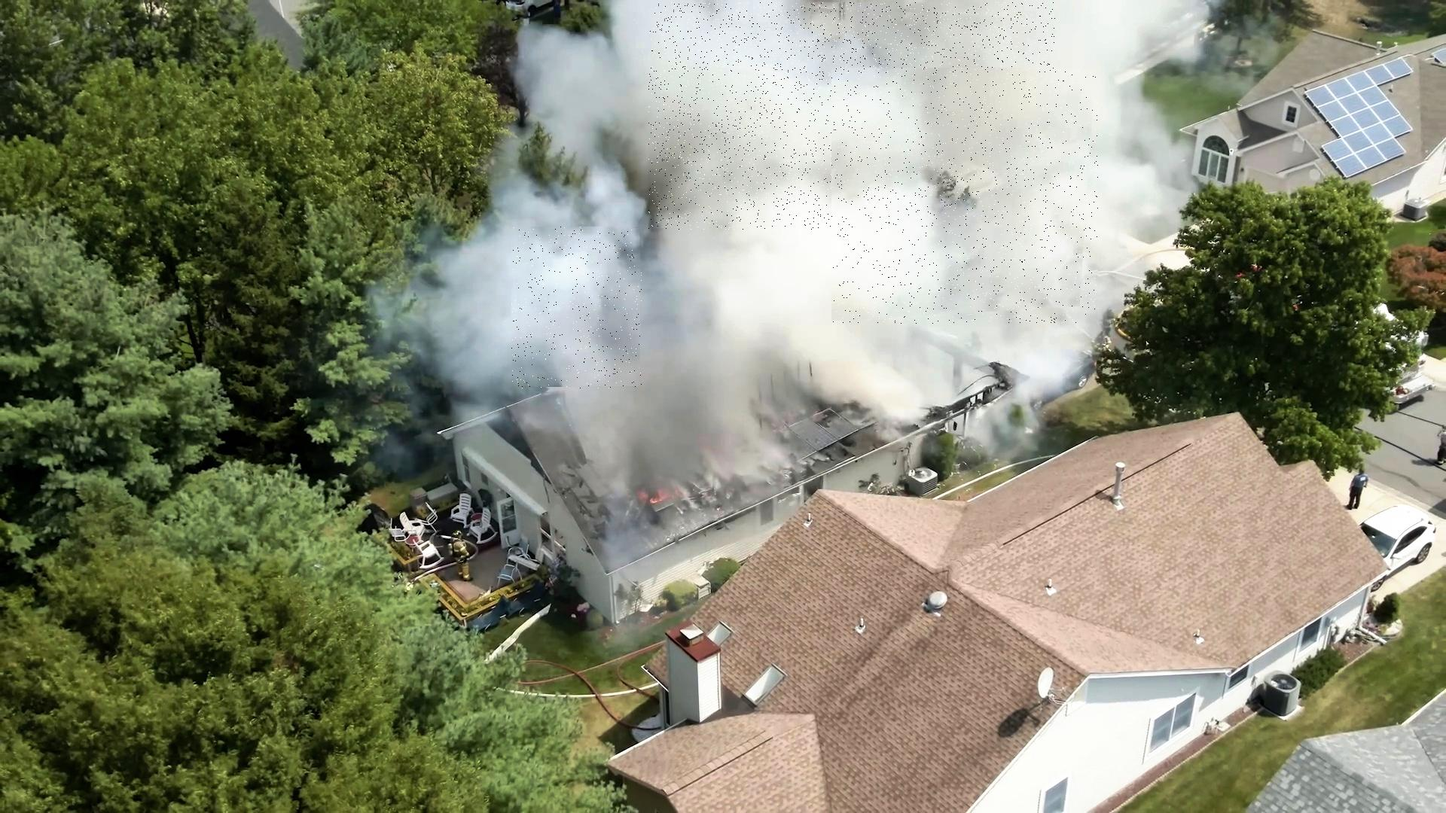smoke: (649, 3, 1057, 230), (832, 70, 1099, 324), (512, 227, 642, 389)
